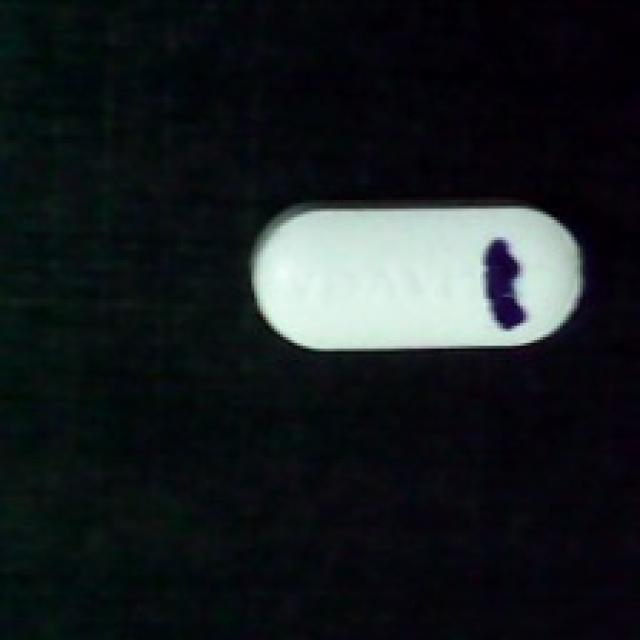defected: (246, 197, 591, 357)
